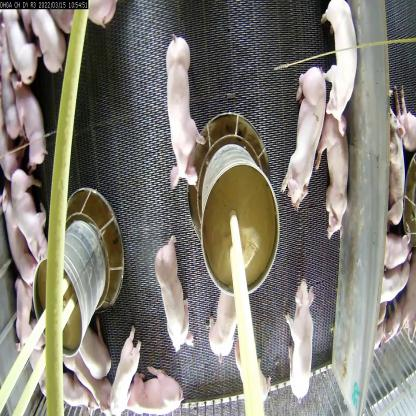Pig: (320, 1, 363, 139), (280, 67, 319, 208), (165, 32, 198, 184), (151, 231, 193, 350), (11, 163, 54, 275), (286, 278, 320, 416), (322, 96, 356, 224), (209, 284, 248, 368), (0, 9, 38, 87), (32, 5, 68, 86), (137, 367, 184, 415), (107, 336, 134, 411)
